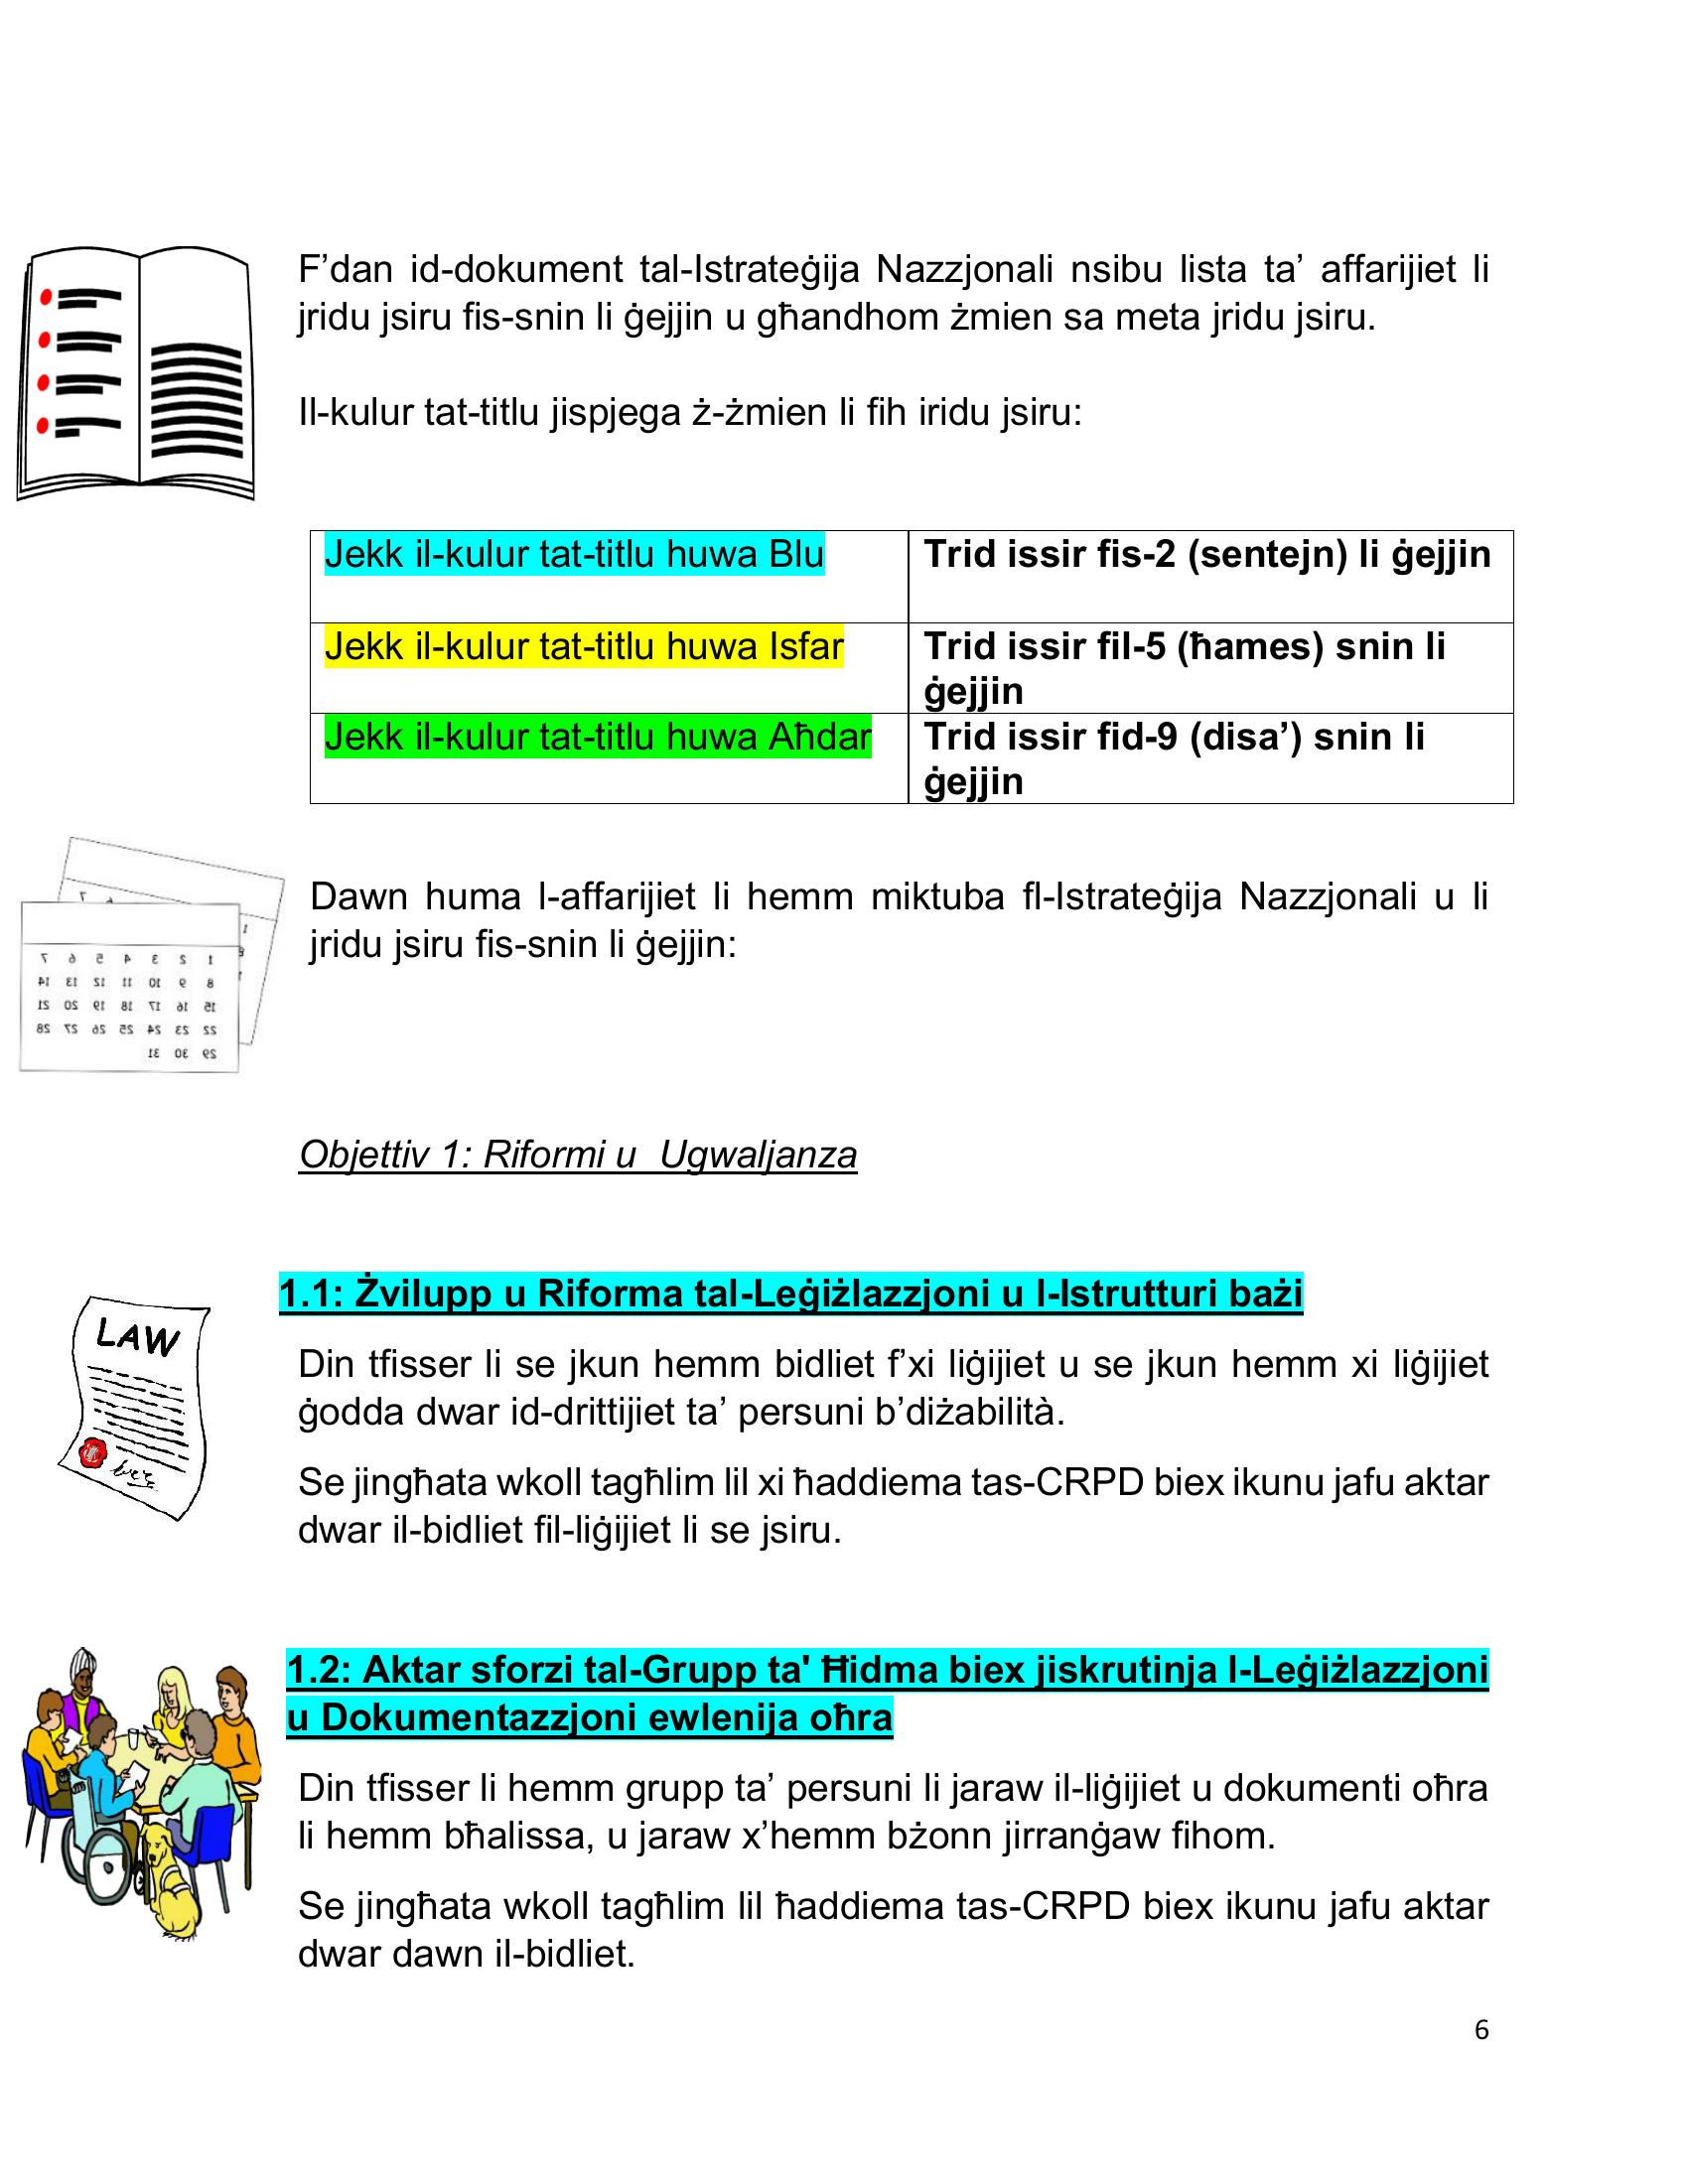text: (266, 1106, 1536, 1993), (293, 211, 1521, 473), (301, 860, 1523, 1002)
